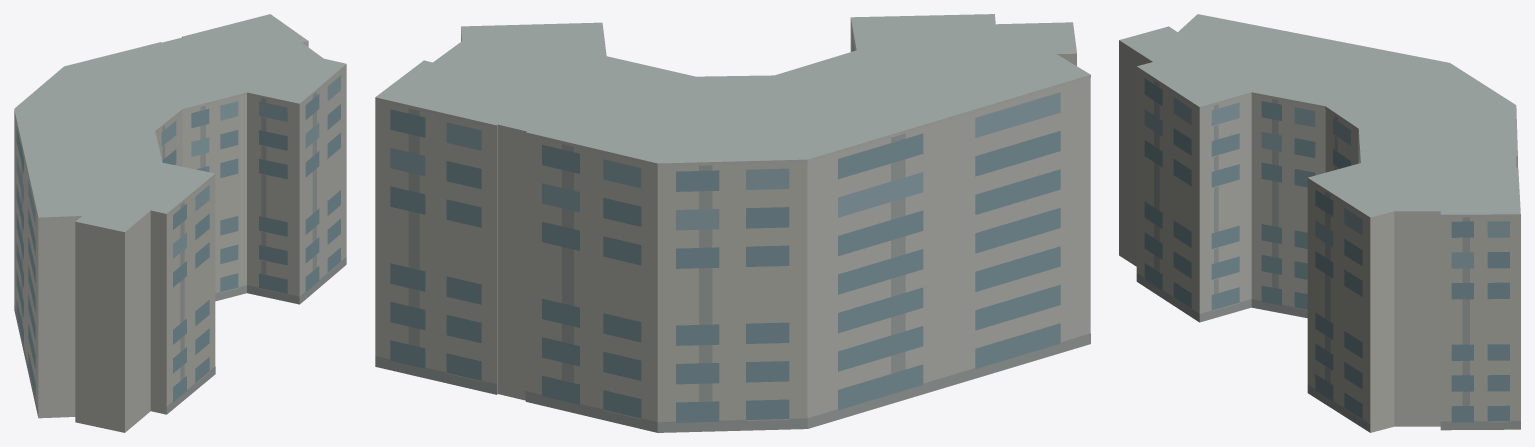
The model's file is survey-upis-32644854.glb.
3 renders of one model, left to right at view 1: azimuth 30°, elevation 25°; view 2: azimuth 150°, elevation 25°; view 3: azimuth 270°, elevation 25°, orthographic. The views are drawn at different scales.
Parts seen in each view (by area): view 1: survey-upis-32644854.tmp; view 2: survey-upis-32644854.tmp; view 3: survey-upis-32644854.tmp.
Boxes of the visible parts, left/top/right/bottom form: survey-upis-32644854.tmp: left=14, top=14, right=346, bottom=432; survey-upis-32644854.tmp: left=375, top=14, right=1090, bottom=432; survey-upis-32644854.tmp: left=1119, top=14, right=1520, bottom=432.
Bounding box in the file's own units: 40.95 × 20.2 × 34.16.
